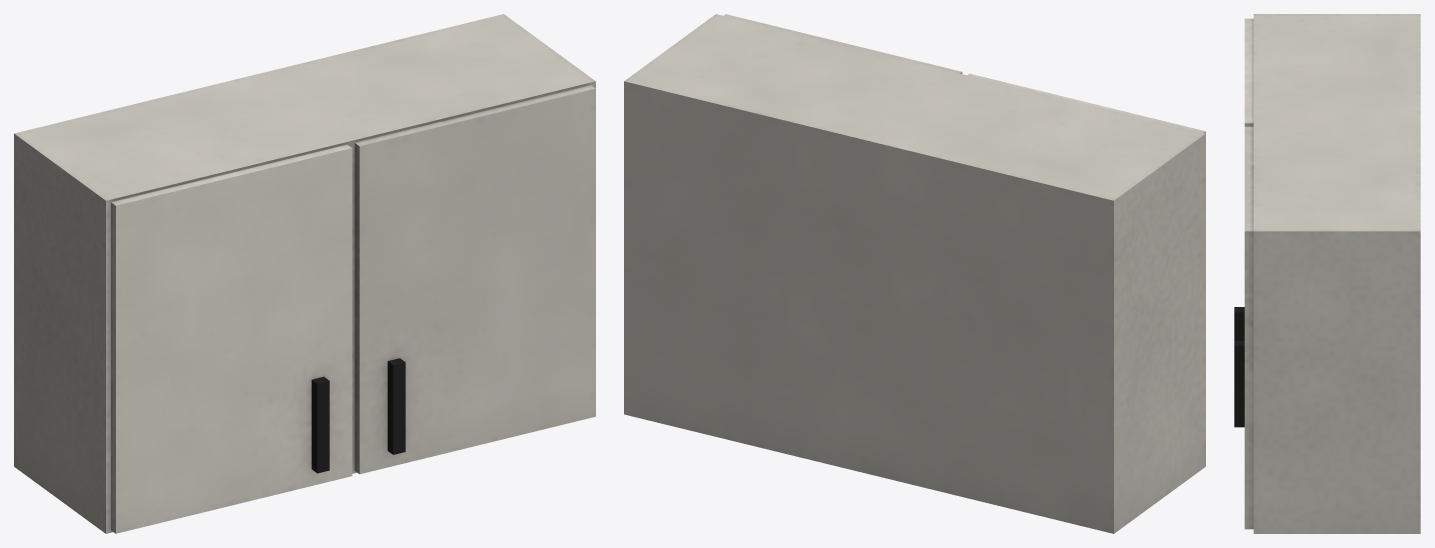
Rendered from H_KitchenUpper.fbx.
The picture shows the model from 3 angles, left to right: view 1: azimuth 30°, elevation 25°; view 2: azimuth 150°, elevation 25°; view 3: azimuth 270°, elevation 25°; orthographic projection. The views are drawn at different scales.
Parts seen in each view (by area): view 1: H_KitchenUpper; view 2: H_KitchenUpper; view 3: H_KitchenUpper.
Part boxes in pixels (bbox=[...]): H_KitchenUpper: bbox=[14, 14, 595, 533]; H_KitchenUpper: bbox=[624, 14, 1205, 533]; H_KitchenUpper: bbox=[1234, 14, 1420, 533].
Bounding box in the file's own units: 400 × 260 × 145.
1 material, 1 textured.
